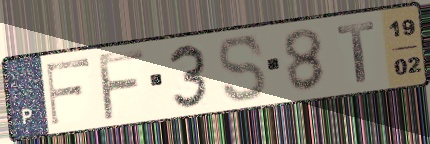3: (167, 41, 209, 112)
8: (281, 26, 329, 94)
F: (94, 47, 148, 124), (43, 55, 93, 128)
S: (215, 33, 270, 105)
T: (334, 19, 377, 85)
